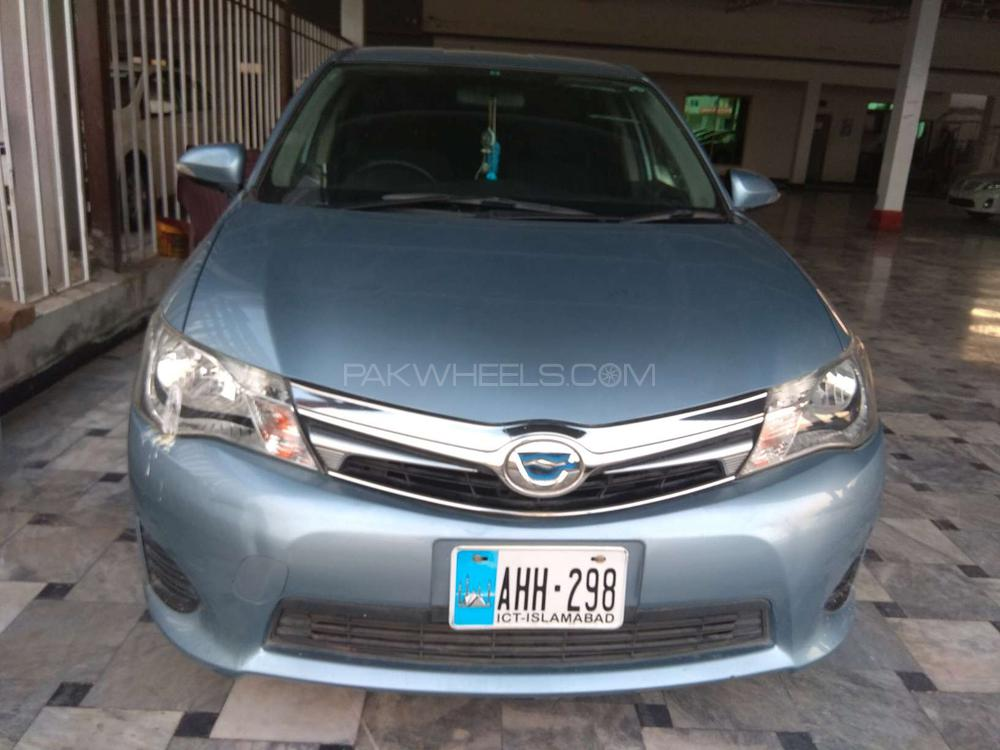license plate: (453, 548, 624, 628)
